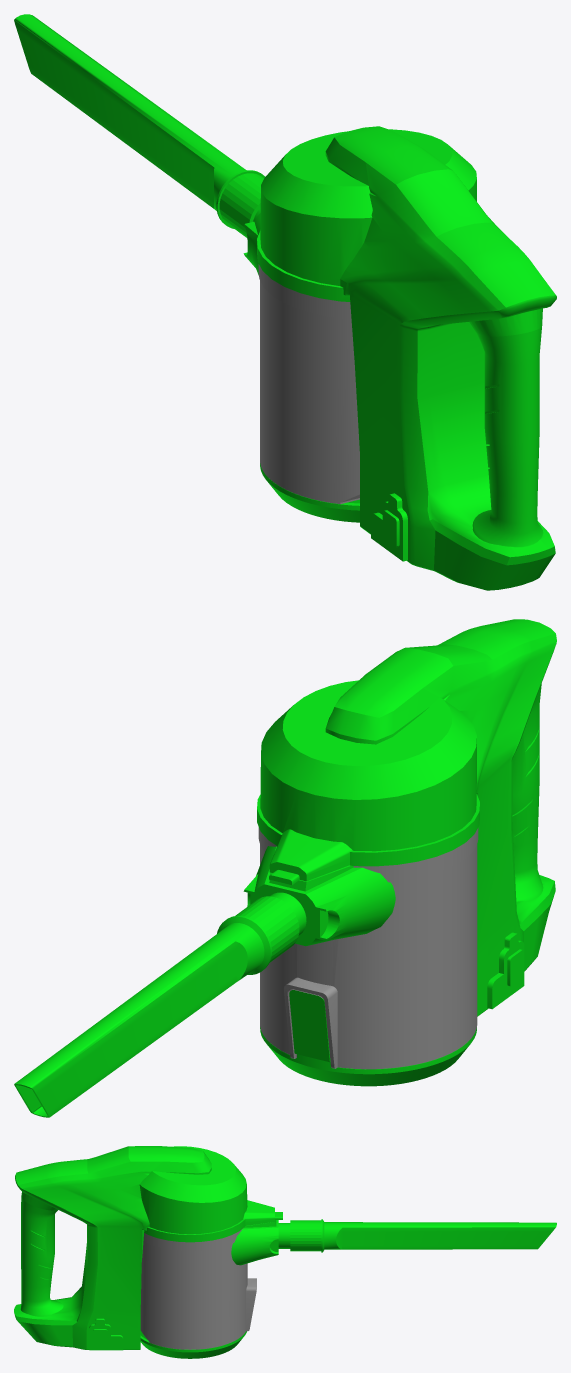
The picture shows the model from 3 angles, top to bottom: view 1: azimuth 30°, elevation 25°; view 2: azimuth 150°, elevation 25°; view 3: azimuth 270°, elevation 25°; orthographic projection. The views are drawn at different scales.
Visible parts, largest first — view 1: Body_LowPoly, DustCylinder_LowPoly, Extension_LowPoly, DustTray_LowPoly; view 2: Body_LowPoly, DustCylinder_LowPoly, Extension_LowPoly, Nozzle_LowPoly, DustTray_LowPoly, Lock_LowPoly; view 3: Body_LowPoly, DustCylinder_LowPoly, Extension_LowPoly, Nozzle_LowPoly, DustTray_LowPoly.
Part boxes in pixels (left/top/right/bottom): Body_LowPoly: left=257, top=126, right=556, bottom=590; DustCylinder_LowPoly: left=258, top=264, right=359, bottom=504; Extension_LowPoly: left=14, top=14, right=264, bottom=237; DustTray_LowPoly: left=260, top=463, right=359, bottom=522; Body_LowPoly: left=257, top=619, right=556, bottom=1016; DustCylinder_LowPoly: left=258, top=827, right=478, bottom=1069; Extension_LowPoly: left=14, top=896, right=299, bottom=1117; Nozzle_LowPoly: left=243, top=846, right=395, bottom=946; DustTray_LowPoly: left=260, top=1027, right=476, bottom=1086; Lock_LowPoly: left=289, top=989, right=330, bottom=1062; Body_LowPoly: left=14, top=1146, right=282, bottom=1350; DustCylinder_LowPoly: left=140, top=1228, right=256, bottom=1349; Extension_LowPoly: left=290, top=1219, right=556, bottom=1252; Nozzle_LowPoly: left=231, top=1220, right=290, bottom=1265; DustTray_LowPoly: left=140, top=1331, right=246, bottom=1358.
Size of the model in its own units: 4.46 by 7.75 by 20.41.
